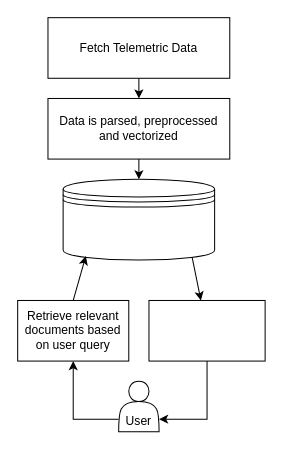
Image size: 283x449. Some labels were removed from this diagram. Each missing label, with the centre of its shape:
"Augment the prompt with context and generate response" belongs at (x=206, y=330).
"Vector embeddings stored to vector store" belongs at (x=138, y=219).
